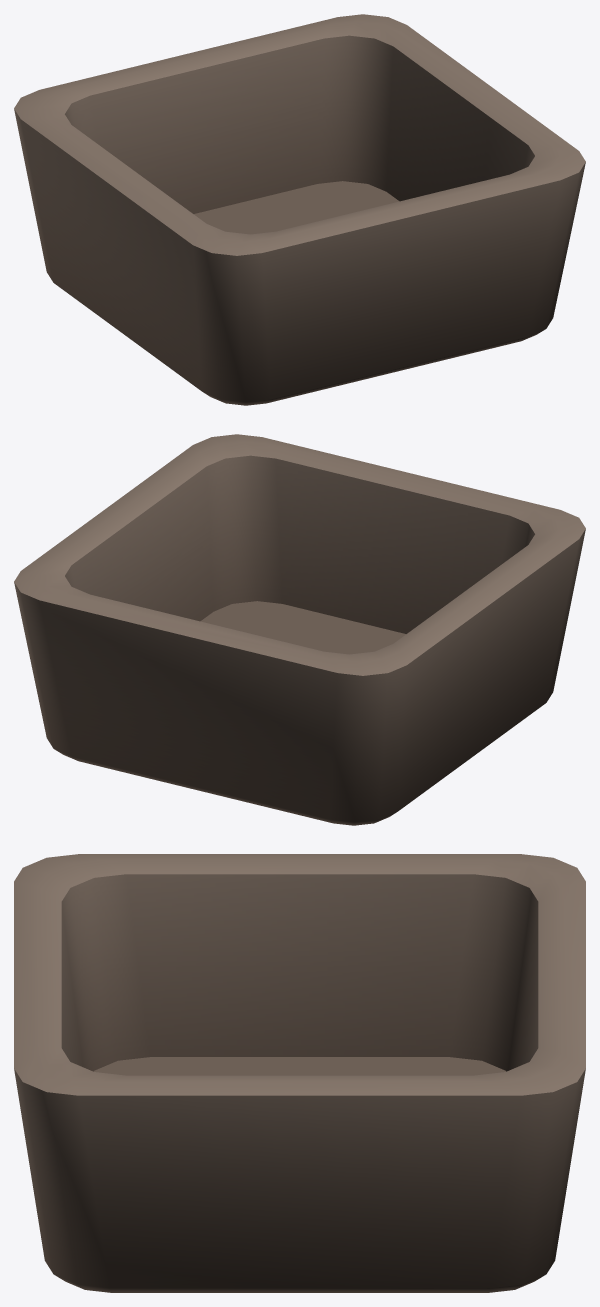
Rendered from container_A_tall.obj.
3 renders of one model, top to bottom at view 1: azimuth 30°, elevation 25°; view 2: azimuth 150°, elevation 25°; view 3: azimuth 270°, elevation 25°, orthographic. The views are drawn at different scales.
Visible parts, largest first — view 1: container_A_tall; view 2: container_A_tall; view 3: container_A_tall.
Part boxes in pixels (bbox=[...]): container_A_tall: bbox=[14, 14, 585, 405]; container_A_tall: bbox=[14, 434, 585, 825]; container_A_tall: bbox=[14, 854, 585, 1292].
Bounding box in the file's own units: 2.4 × 1.02 × 2.4.
1 material, 1 textured.
